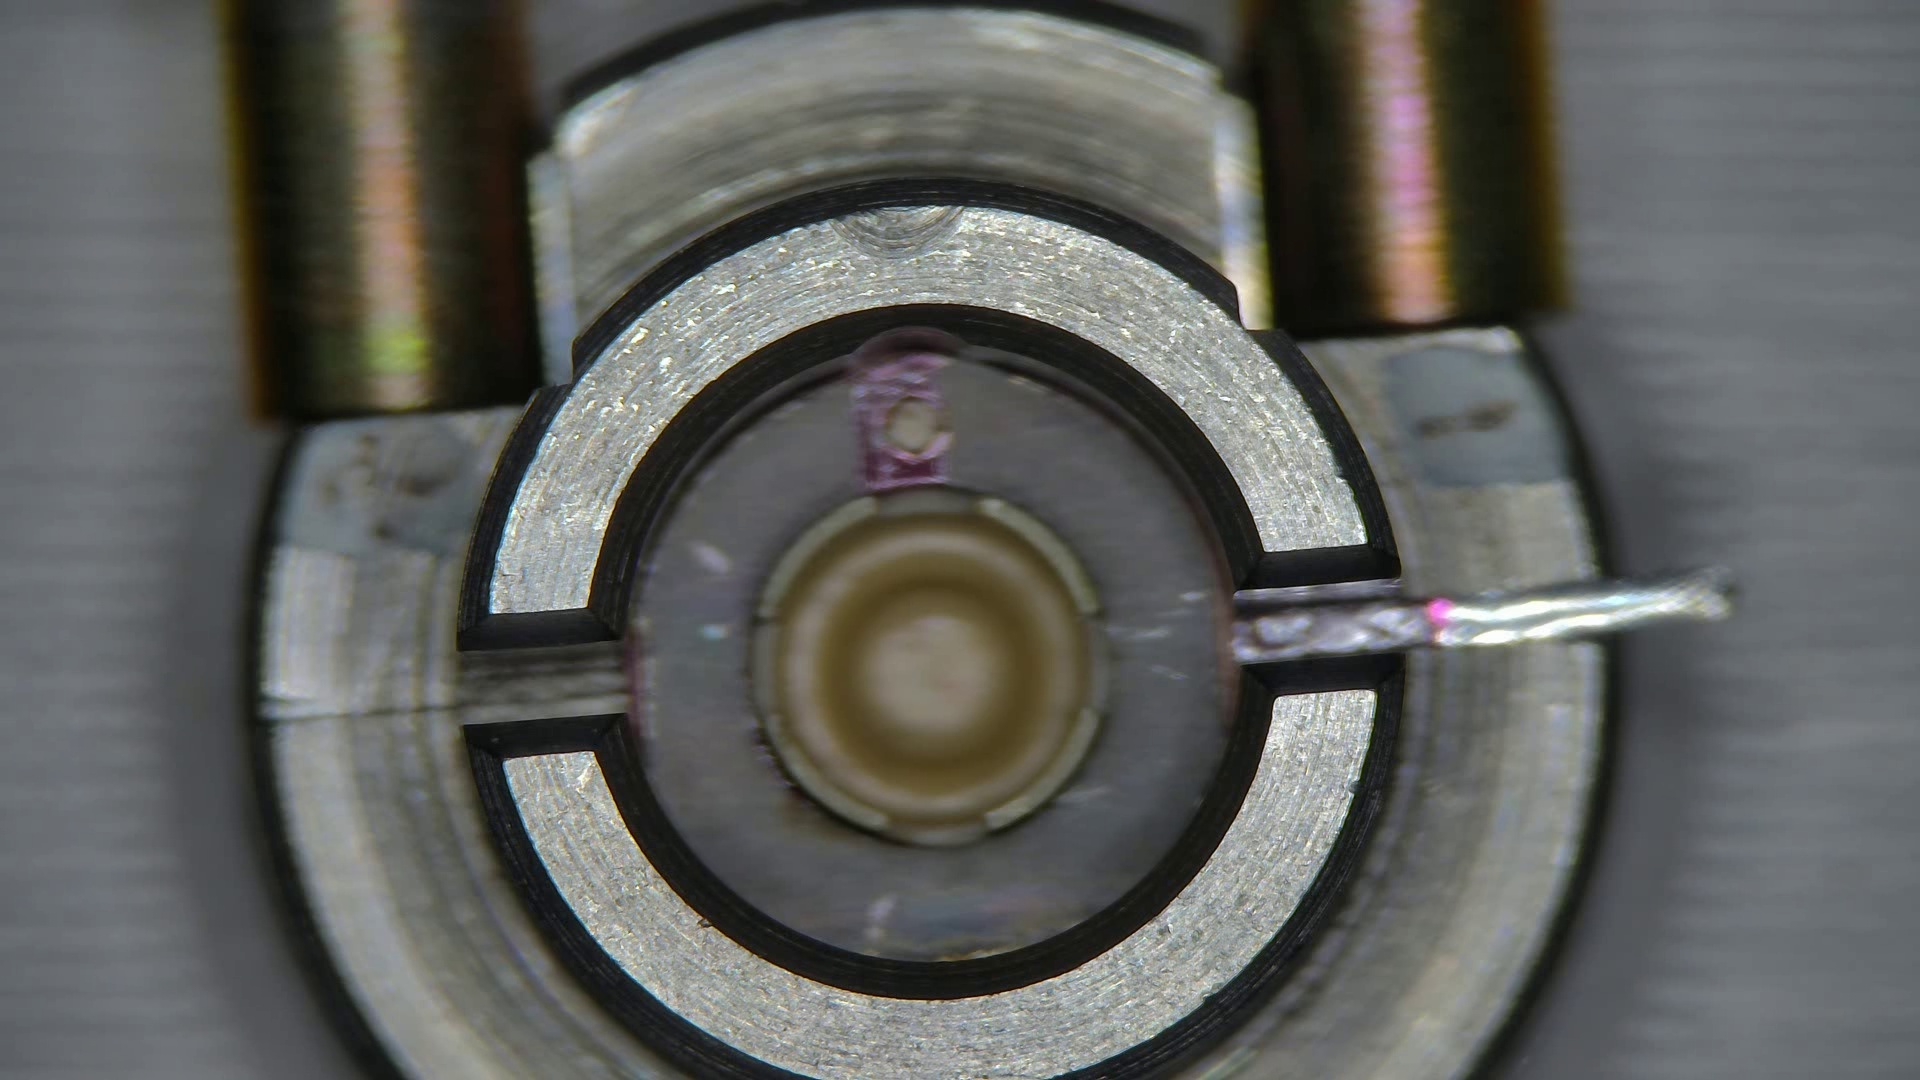YellowOring: (633, 353, 1225, 960)
